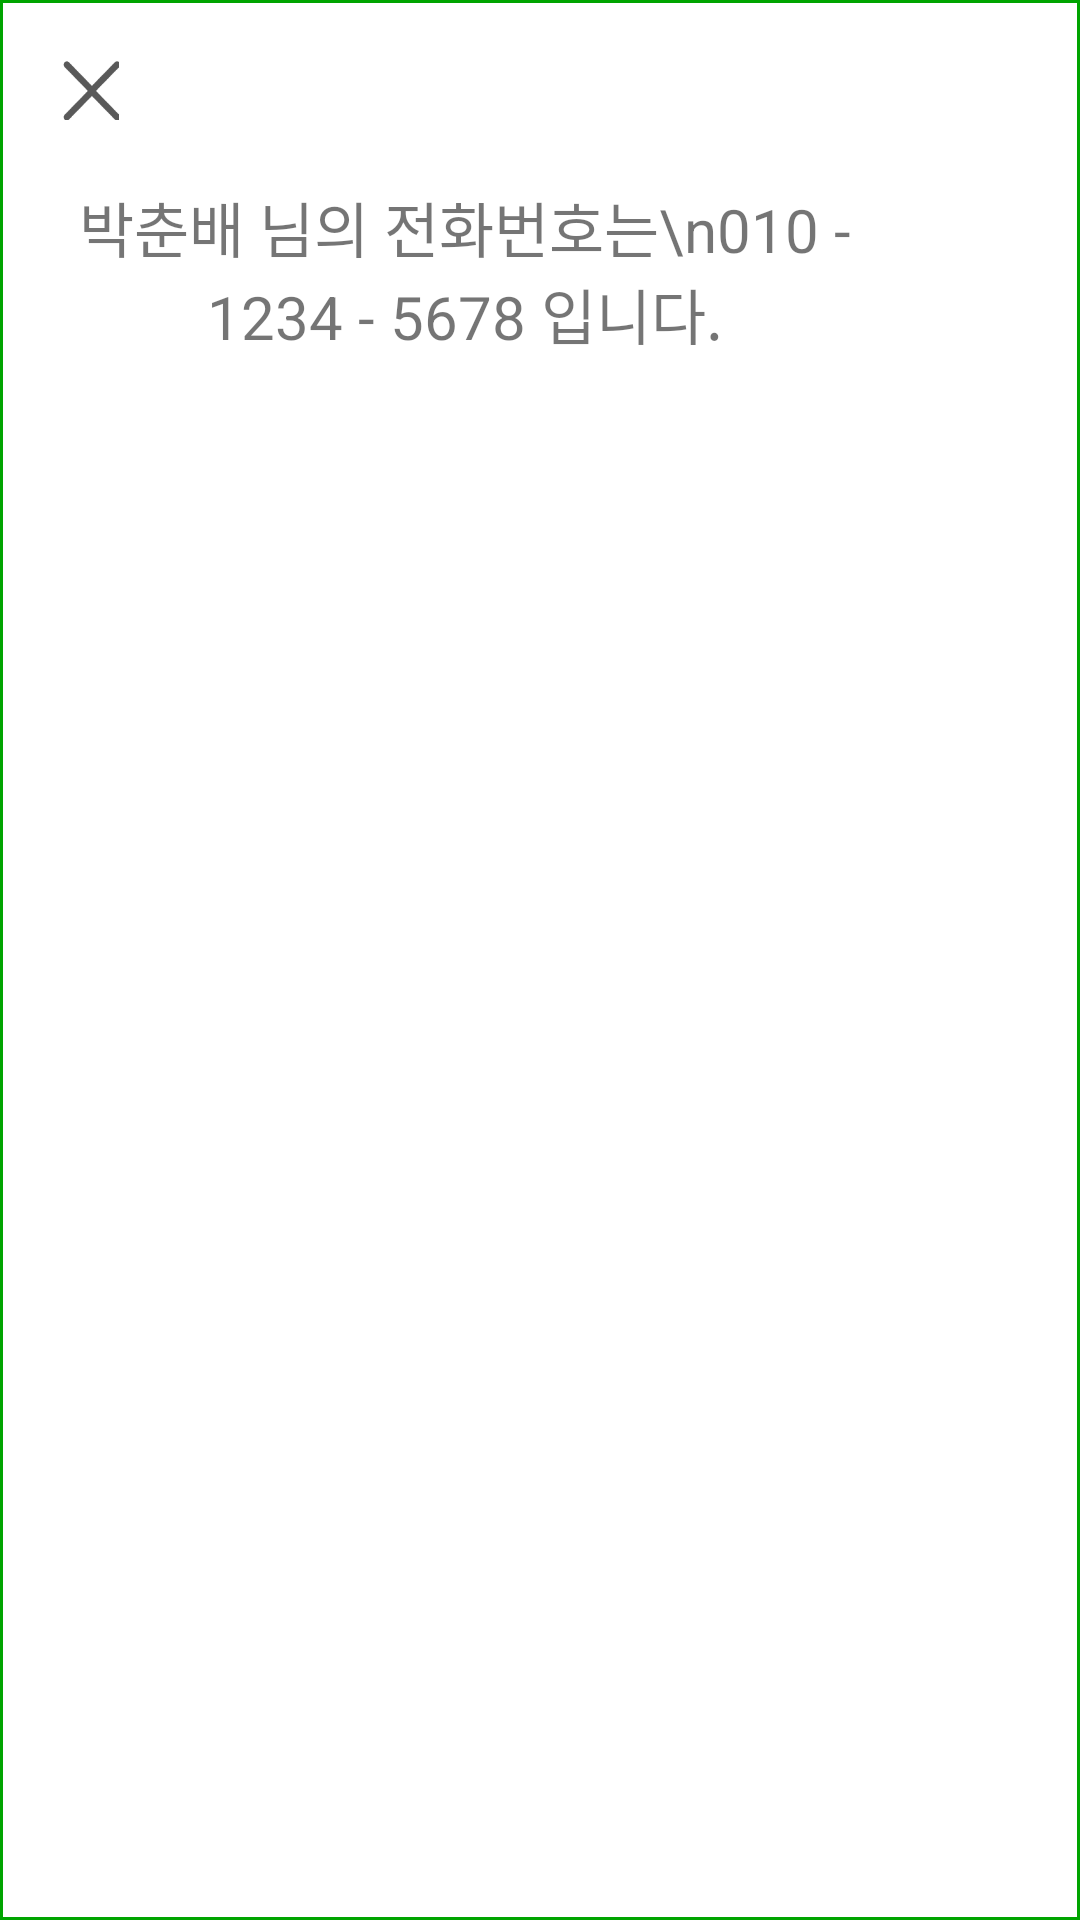

Where icons sit on this 1080*1920 app screen, as (x1, y1, x2, y2):
esc: (63, 61, 119, 120)
